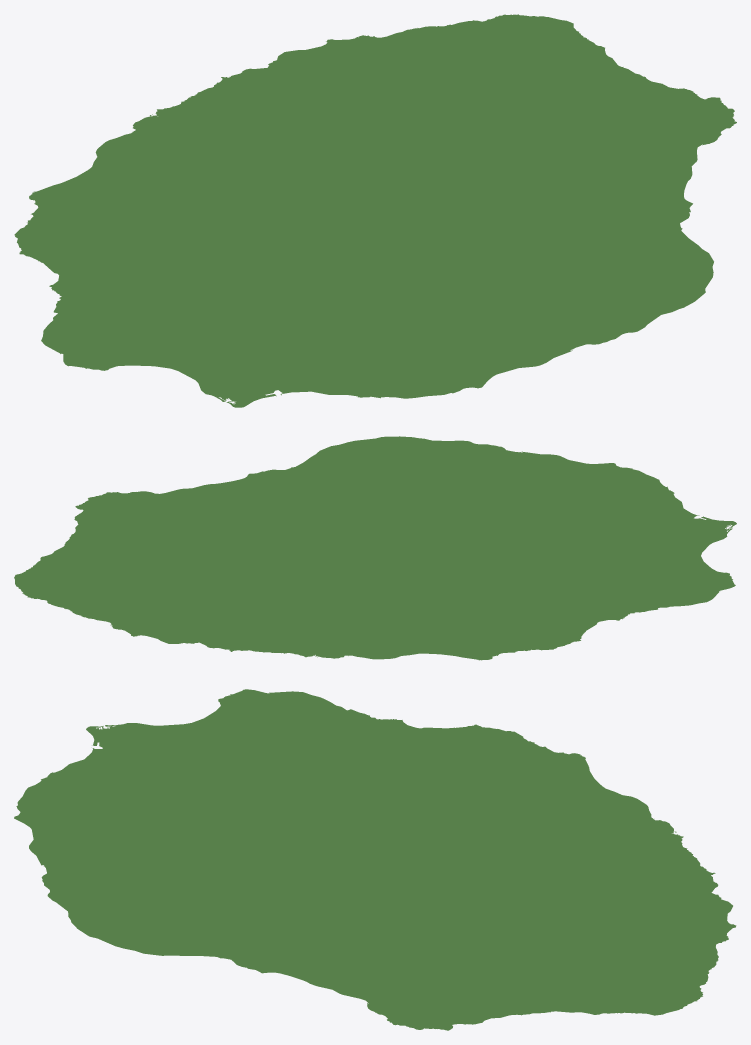
Rendered from lareunion-vector-map.glb.
The picture shows the model from 3 angles, top to bottom: view 1: azimuth 30°, elevation 25°; view 2: azimuth 150°, elevation 25°; view 3: azimuth 270°, elevation 25°; orthographic projection. The views are drawn at different scales.
Parts seen in each view (by area): view 1: LaReunionVectorLand; view 2: LaReunionVectorLand; view 3: LaReunionVectorLand.
Part boxes in pixels (x1,y1,x2,y2): LaReunionVectorLand: (14,14,736,407); LaReunionVectorLand: (14,436,736,660); LaReunionVectorLand: (14,689,736,1030).
Size of the model in its own units: 155 by 0 by 139.
